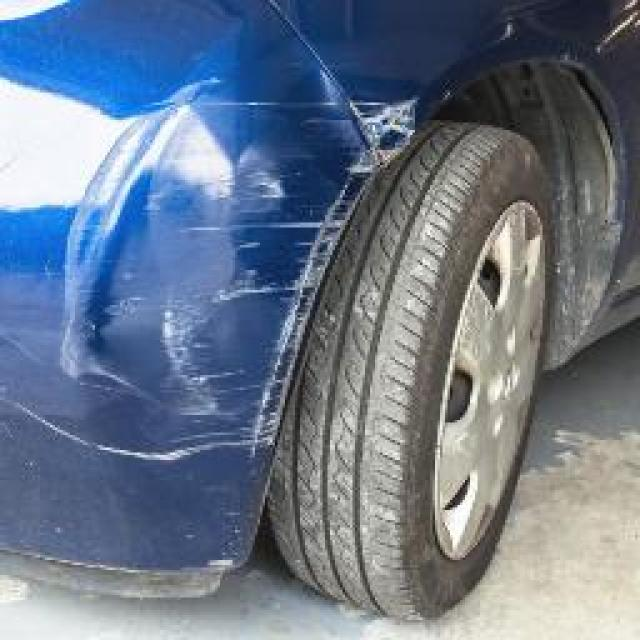Bumper: (35, 58, 320, 502)
Fender: (348, 28, 440, 185)
